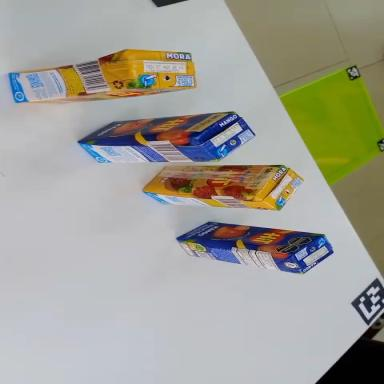HIT-MANGO: (76, 109, 256, 172), (174, 218, 335, 277)
HIT-MORA: (7, 40, 197, 113), (142, 163, 303, 210)
cara_F: (175, 218, 324, 259), (20, 79, 193, 113), (76, 112, 236, 143), (141, 164, 283, 197)
